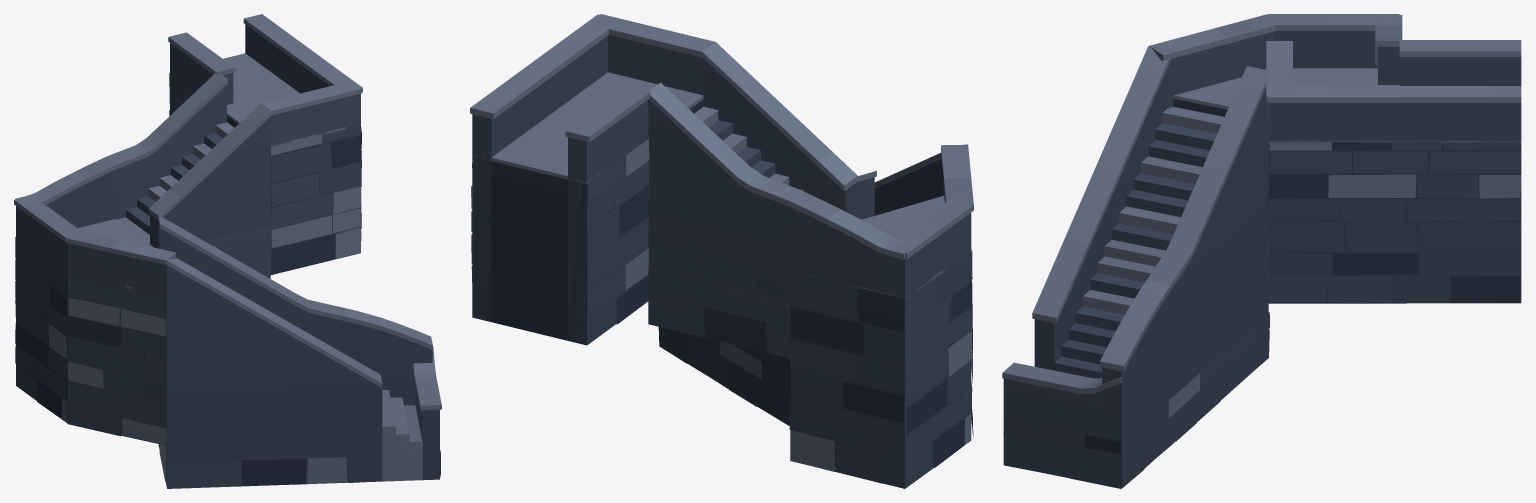
The model's file is castle_stair.glb.
3 renders of one model, left to right at view 1: azimuth 30°, elevation 25°; view 2: azimuth 150°, elevation 25°; view 3: azimuth 270°, elevation 25°, orthographic. The views are drawn at different scales.
Visible parts, largest first — view 1: isl_castle_stair; view 2: isl_castle_stair; view 3: isl_castle_stair.
Part boxes in pixels (left/top/right/bottom): isl_castle_stair: left=14, top=14, right=441, bottom=488; isl_castle_stair: left=470, top=14, right=973, bottom=488; isl_castle_stair: left=1002, top=14, right=1521, bottom=488.
Bounding box in the file's own units: 7.15 × 6.82 × 8.32.
